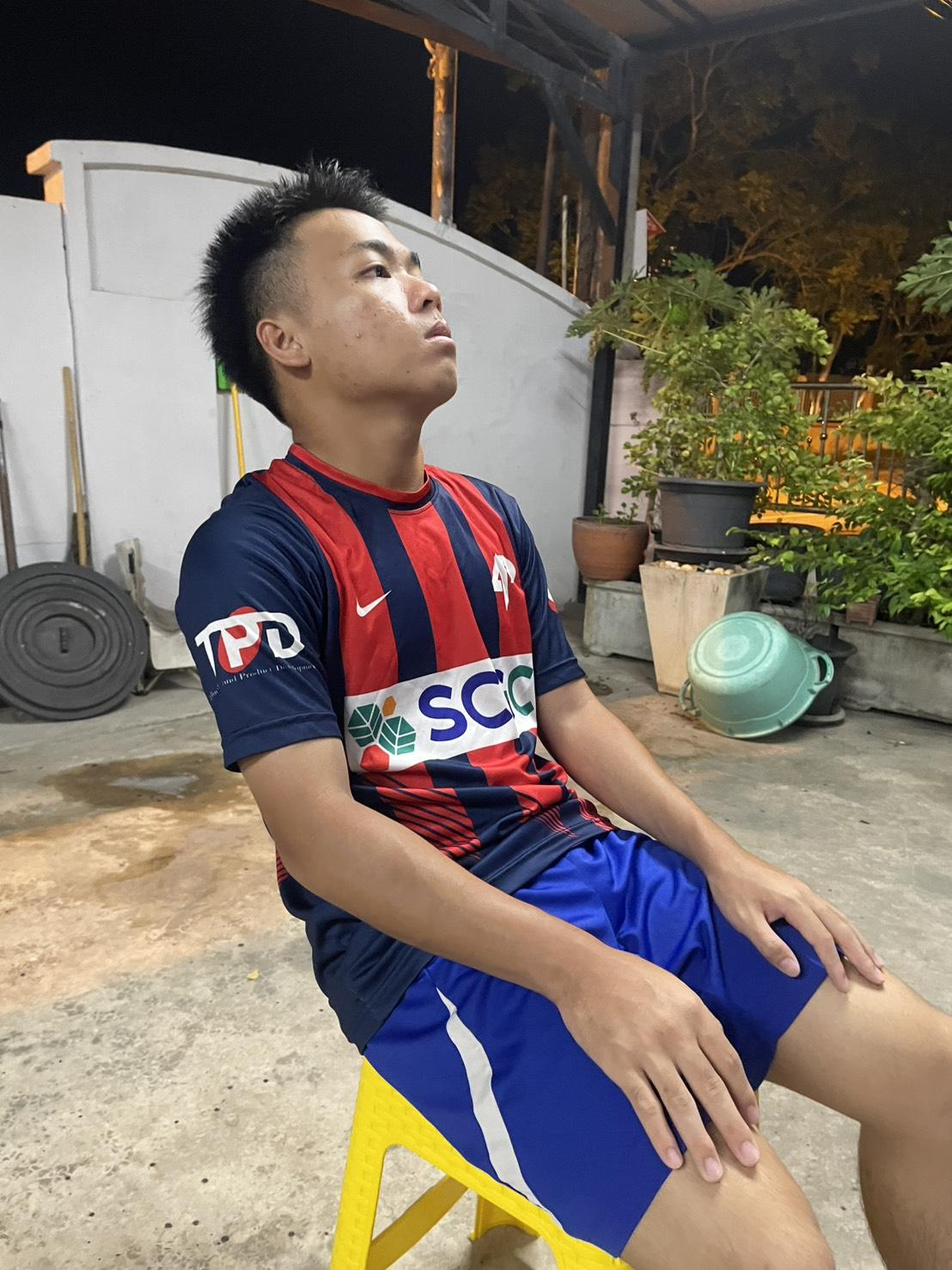BadPosture: (179, 162, 951, 1269)
